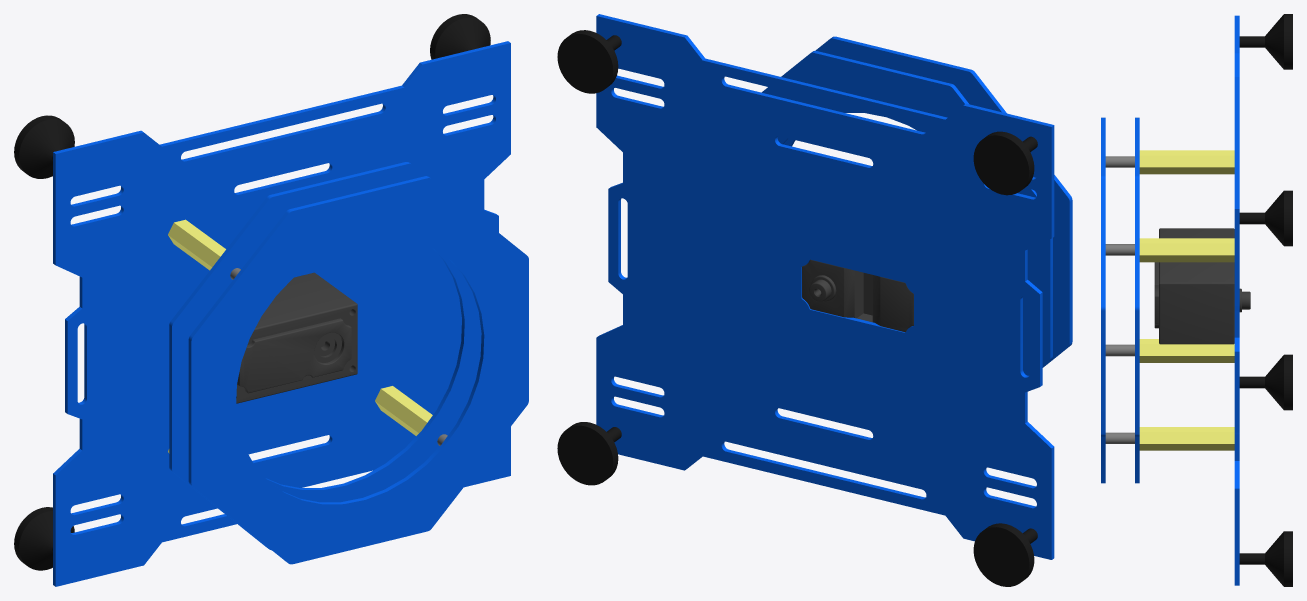
File: xarm-sbase.obj
3 views of the same model, side by side, from view 1: azimuth 30°, elevation 25°; view 2: azimuth 150°, elevation 25°; view 3: azimuth 270°, elevation 25° (orthographic). The views are drawn at different scales.
Parts seen in each view (by area): view 1: Base, Stator_Base, Servo_6, Circumference.001, Stud; view 2: Base, Stator_Base, Circumference.001, Servo_6; view 3: Stud, Servo_6, Circumference.001, Stator_Base, Base, Screw.
Part boxes in pixels (<box>): Base: <box>53,41,510,586</box>; Stator_Base: <box>169,162,528,564</box>; Servo_6: <box>236,272,357,403</box>; Circumference.001: <box>14,14,490,570</box>; Stud: <box>168,219,432,453</box>; Base: <box>596,14,1054,559</box>; Stator_Base: <box>761,36,1072,375</box>; Circumference.001: <box>557,30,1037,586</box>; Servo_6: <box>802,259,913,332</box>; Stud: <box>1139,150,1234,450</box>; Servo_6: <box>1154,228,1250,344</box>; Circumference.001: <box>1239,14,1292,586</box>; Stator_Base: <box>1101,117,1139,483</box>; Base: <box>1234,15,1239,585</box>; Screw: <box>1105,156,1134,443</box>.
Bounding box in the file's own units: 159 × 145 × 64.57.
